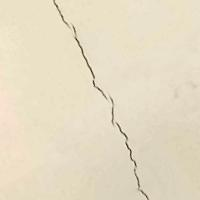crack: (52, 0, 153, 199)
